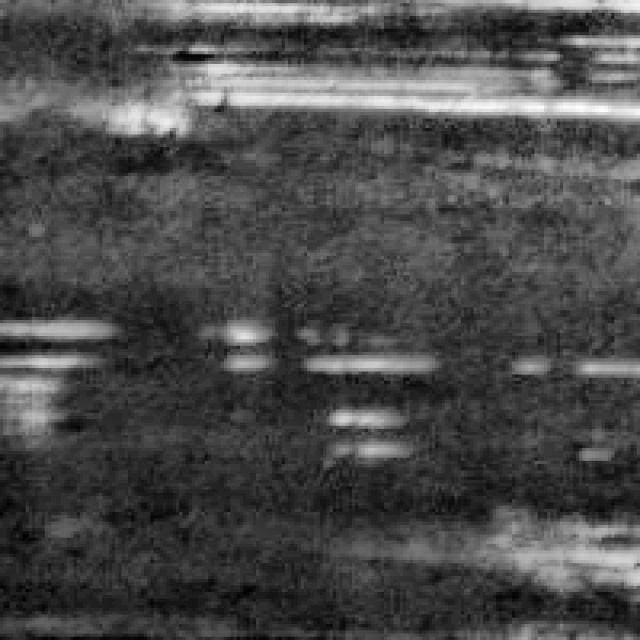Inclusion: (124, 48, 634, 128)
